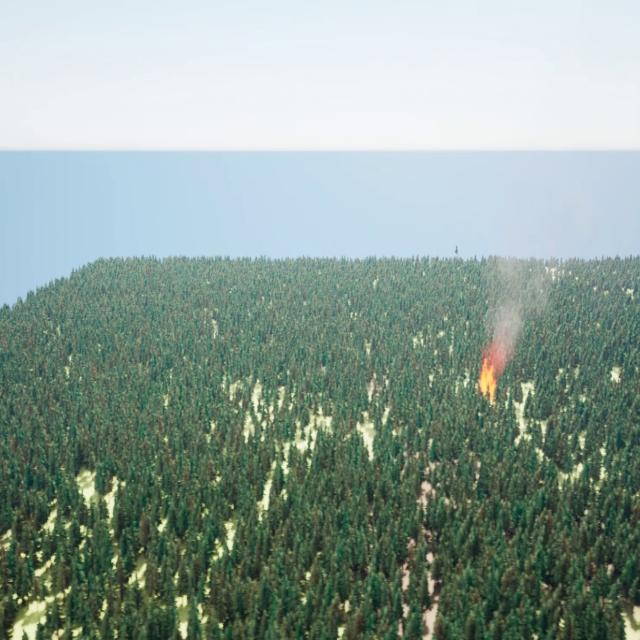fire: (477, 356, 495, 403)
smoke: (489, 245, 548, 372)
